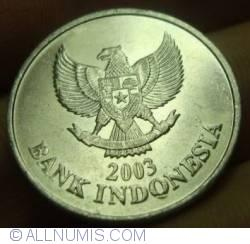coin_200_e2003: (4, 6, 244, 223)
